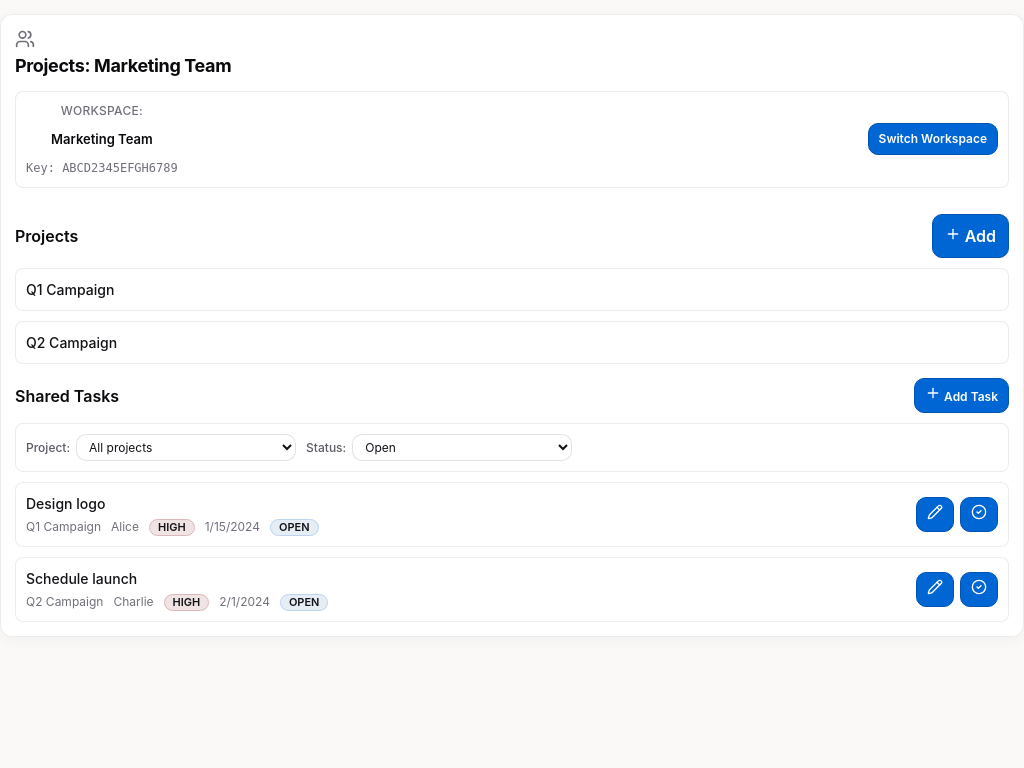
Test case: ProjectsPanel › Task board filters › project filter narrows tasks to the selected project
This screenshot has width=1024, height=768.
Select "All" in the dropdown labelled "Status:". click: (462, 448)
box: [352,434,572,461]
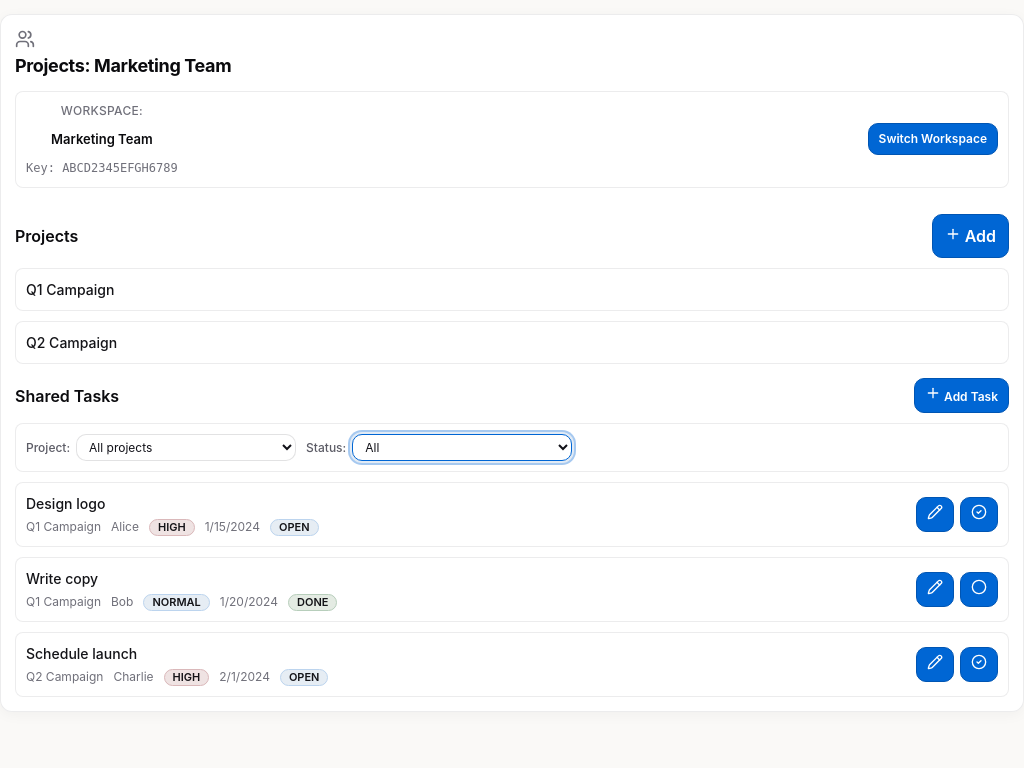
Select "Q1 Campaign" in the dropdown labelled "Project:". click: (186, 448)
box: [76,434,296,461]
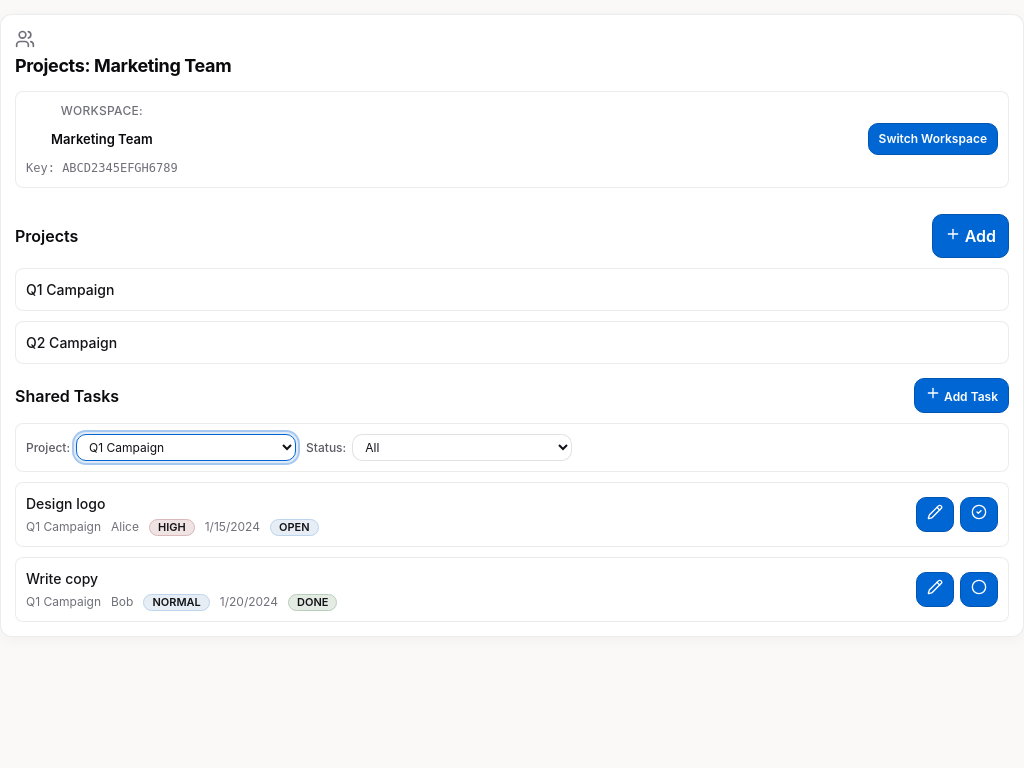
Expected: the text "Design logo" is shown, [26,495,105,512]
Now the text "Write copy" is shown, box [26,570,98,587]
Now the text "Schedule launch" is gone
